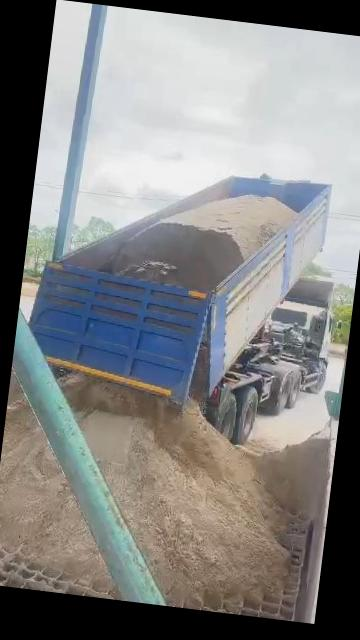sand: (65, 379, 288, 606), (0, 400, 112, 590), (102, 195, 296, 290), (238, 433, 328, 517), (189, 343, 208, 406), (7, 368, 22, 405)
